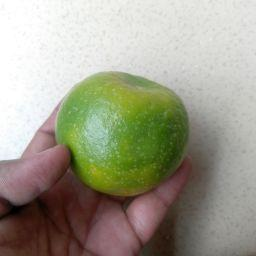Unripe: (53, 71, 190, 196)
